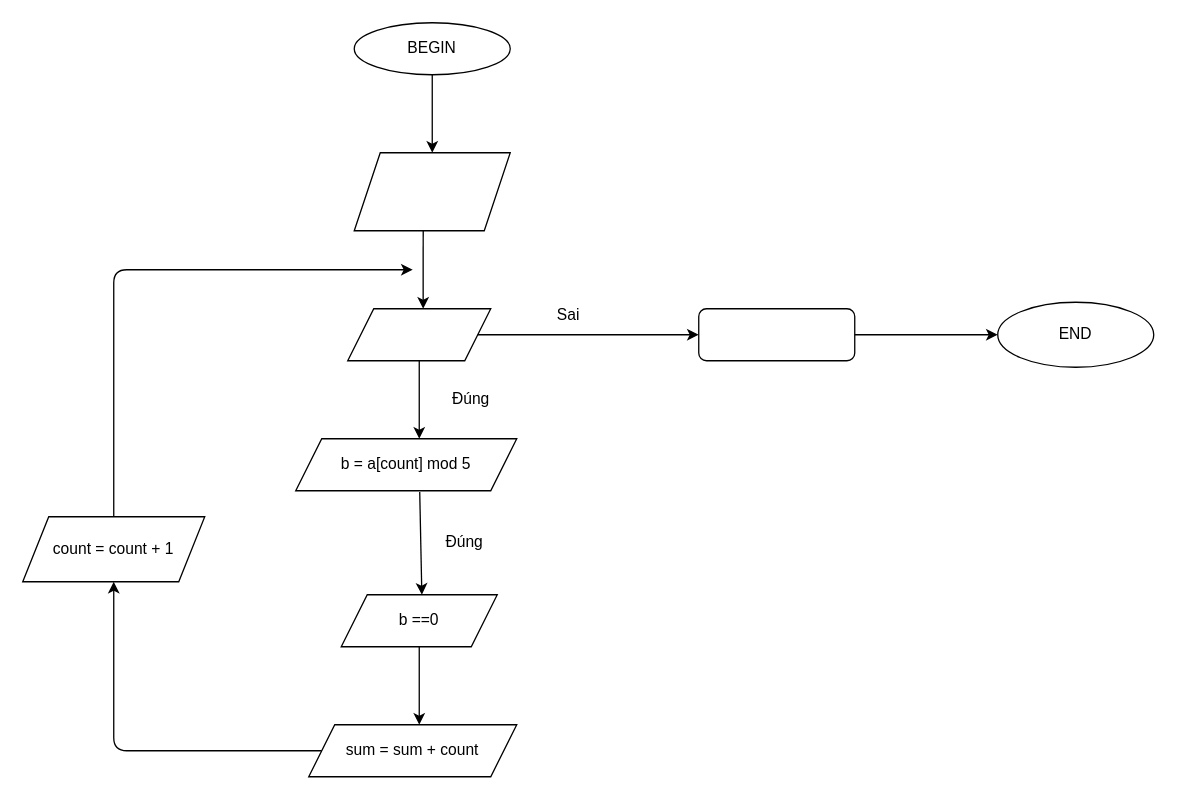
The diagram is 1177 pixels wide and 800 high, and some of its shapes have lost their labels. The centre of each missing label's shape, as x and y in pixels:
count >n: (418,334)
Hiển thị kết quả: (776,334)
int a iht b int c count = 0: (431,191)
